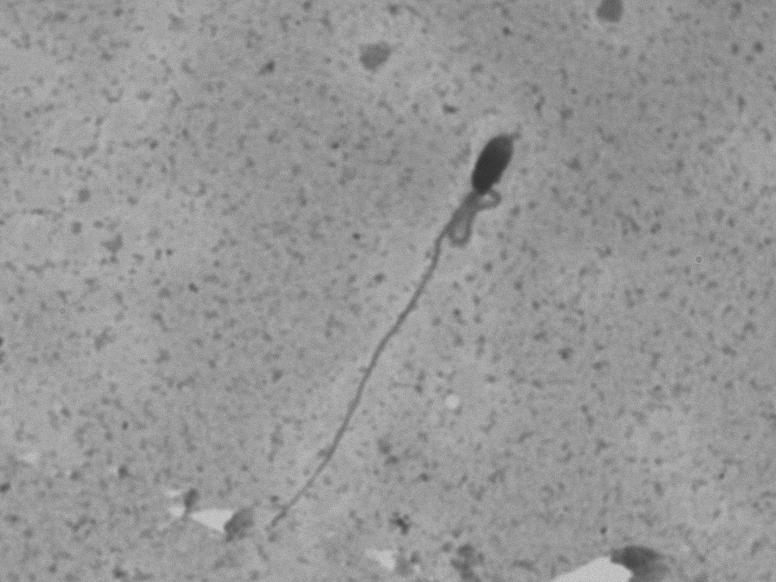Abnormal: (259, 88, 563, 530)
